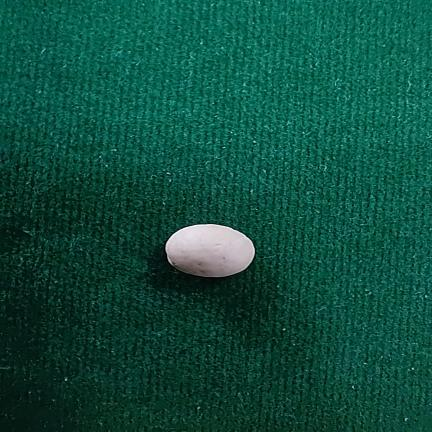immature: (165, 224, 254, 277)
